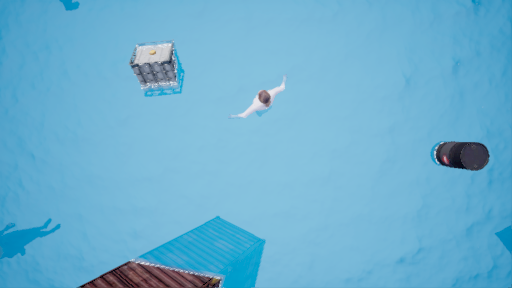person: (237, 74, 290, 113)
